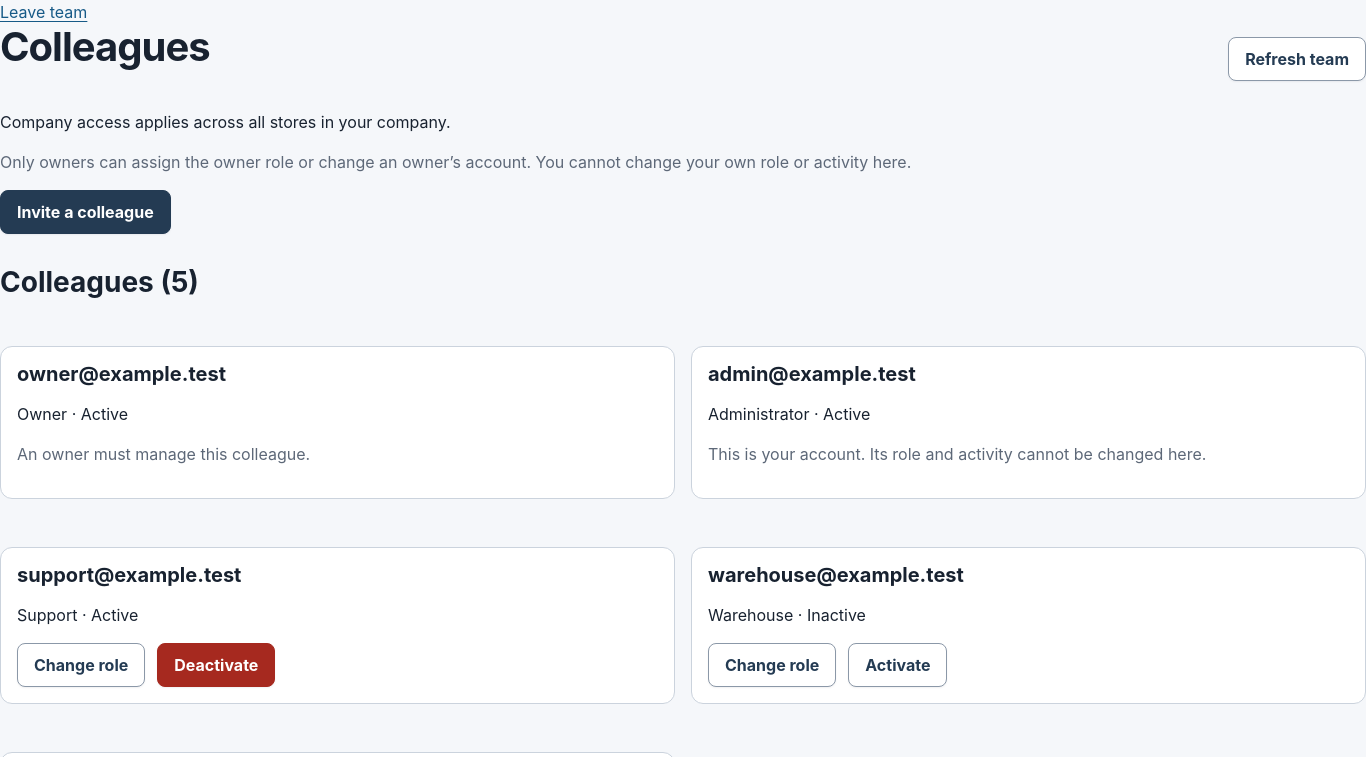
Scenario: lets an admin withdraw an owner invitation while withholding owner assignment and existing-owner controls
The width and height of the screenshot is (1366, 757).
Expected: the heading "Colleagues (5)" is shown, [0,265,199,299]
Click the button "Invite a colleague".
click(85, 212)  # box [0,190,171,234]
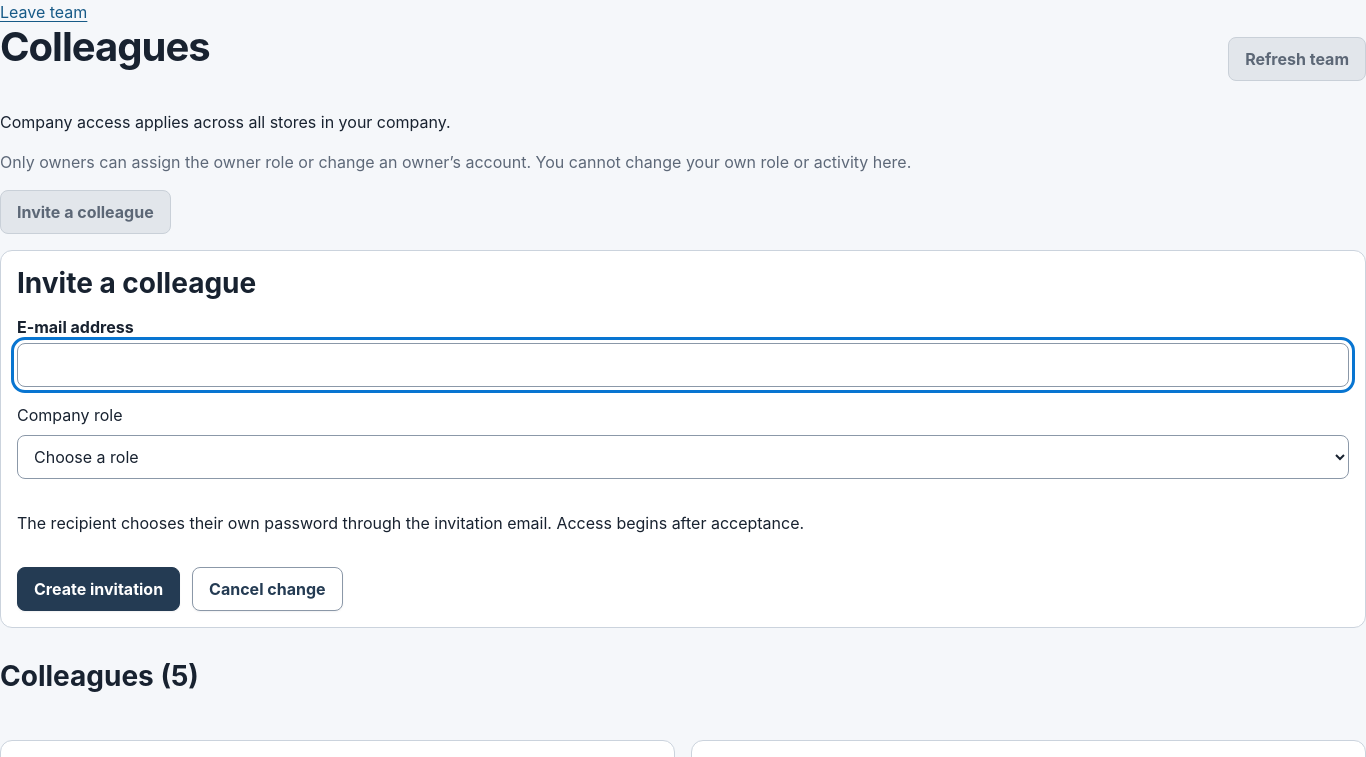
Click the button "Cancel change".
click(267, 589)  # box [192,567,342,611]
(page scrolled)
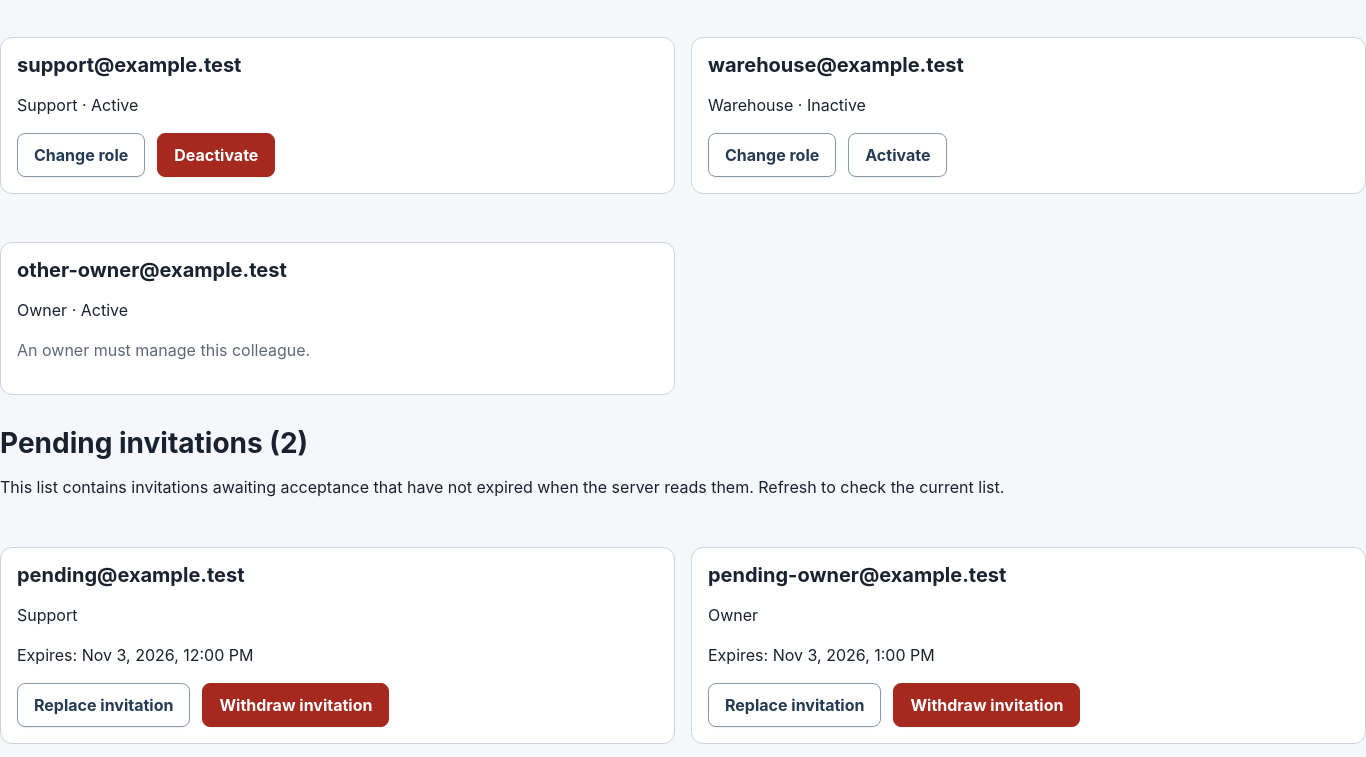
Click the button with aria-label "Withdraw invitation for pending-owner@example.test".
click(987, 705)  # box [893,683,1080,727]
(page scrolled)
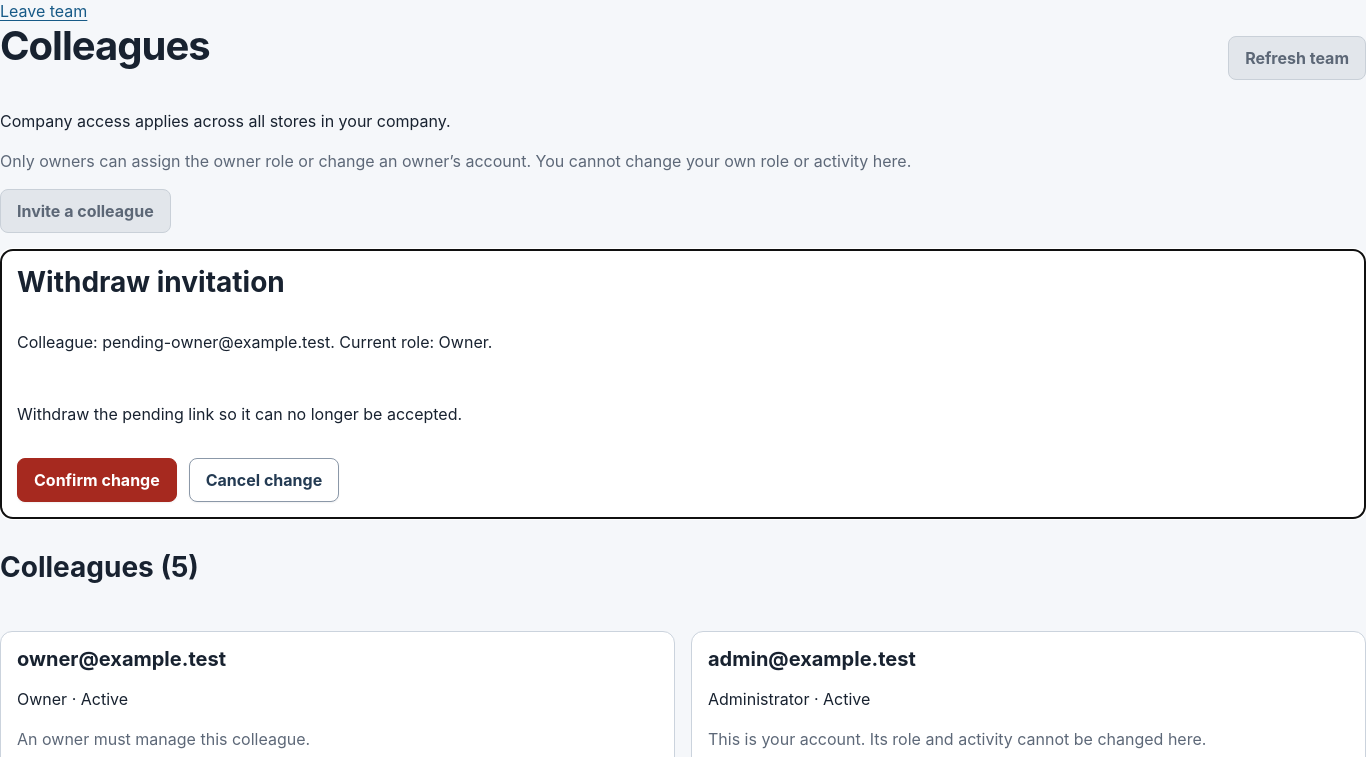
Click the button "Confirm change".
click(97, 480)  # box [17,458,177,502]
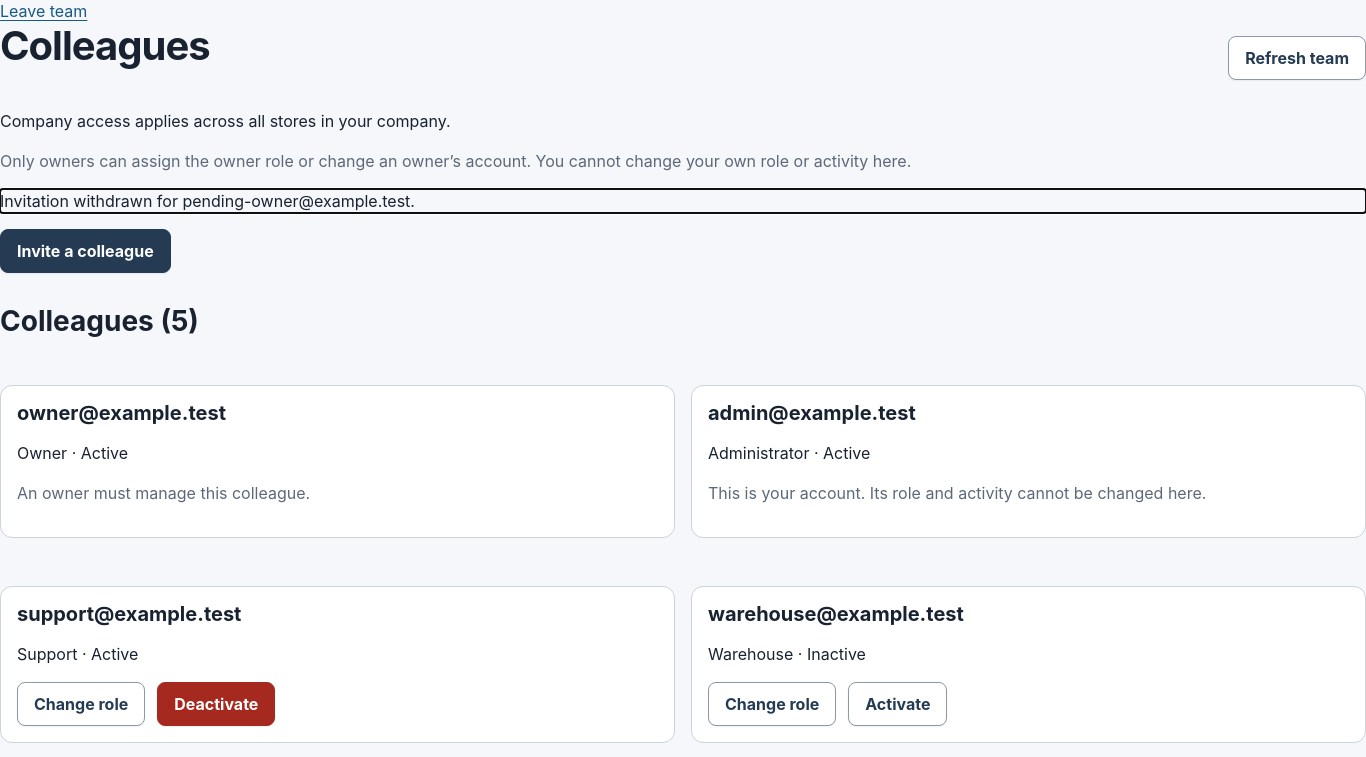
Expected: the text "Invitation withdrawn for pending-owner@example.test." is shown, [0,191,415,211]
